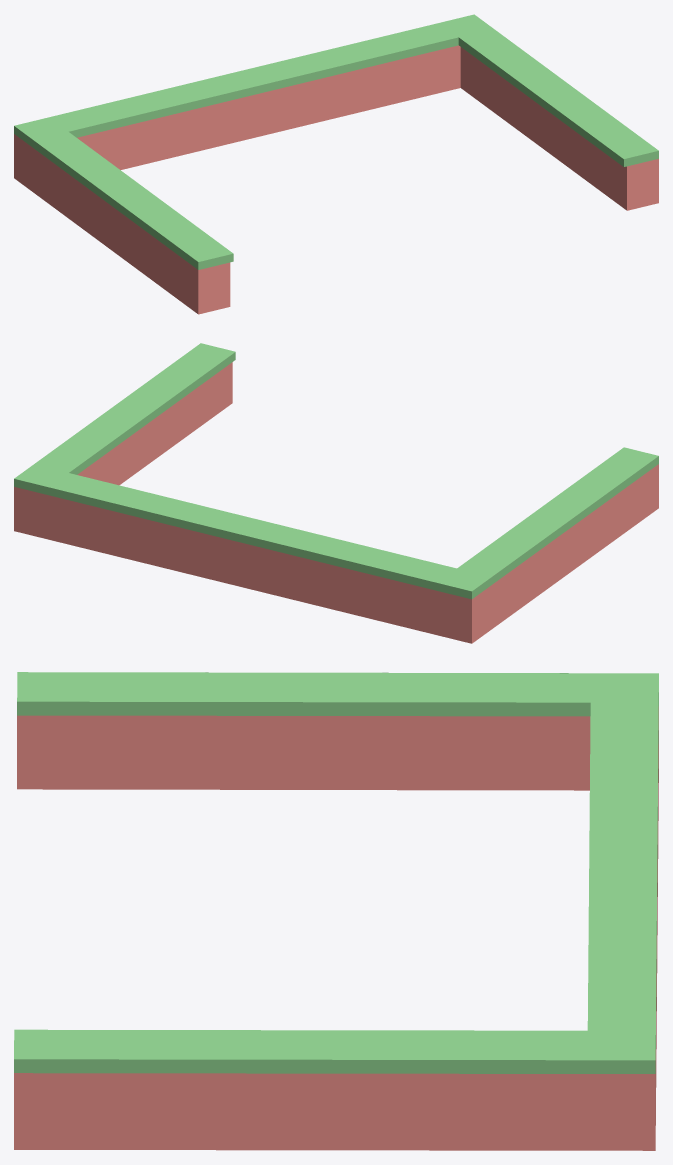
File: Ground Commons Seat.FBX
The picture shows the model from 3 angles, top to bottom: view 1: azimuth 30°, elevation 25°; view 2: azimuth 150°, elevation 25°; view 3: azimuth 270°, elevation 25°; orthographic projection. The views are drawn at different scales.
Parts seen in each view (by area): view 1: Plane002; view 2: Plane002; view 3: Plane002.
Boxes of the visible parts, x1,y1,x2,y2 form: Plane002: (14, 14, 658, 314); Plane002: (14, 343, 658, 643); Plane002: (14, 672, 658, 1150).
Bounding box in the file's own units: 252 × 27.35 × 177.
